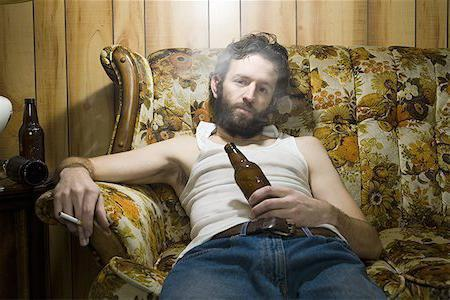Drunk: (224, 57, 273, 128)
